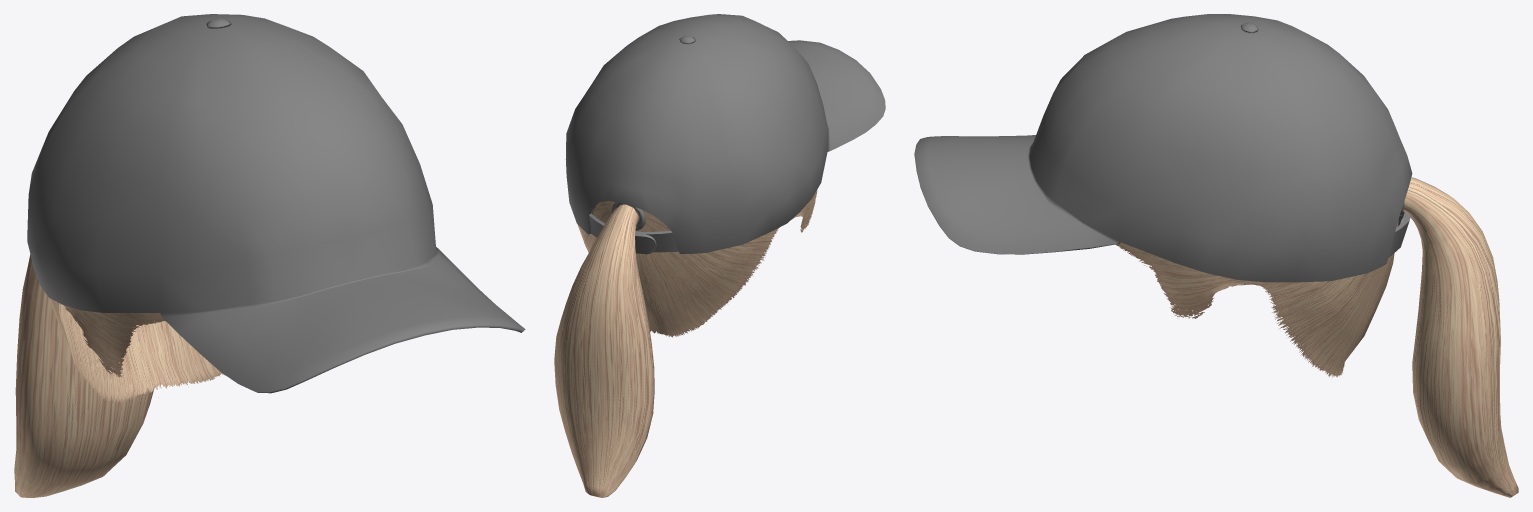
Rendered from BaseballHat_Hair_01.obj.
The picture shows the model from 3 angles, left to right: view 1: azimuth 30°, elevation 25°; view 2: azimuth 150°, elevation 25°; view 3: azimuth 270°, elevation 25°; orthographic projection. The views are drawn at different scales.
Size of the model in its own units: 16.95 by 28.39 by 32.5.
